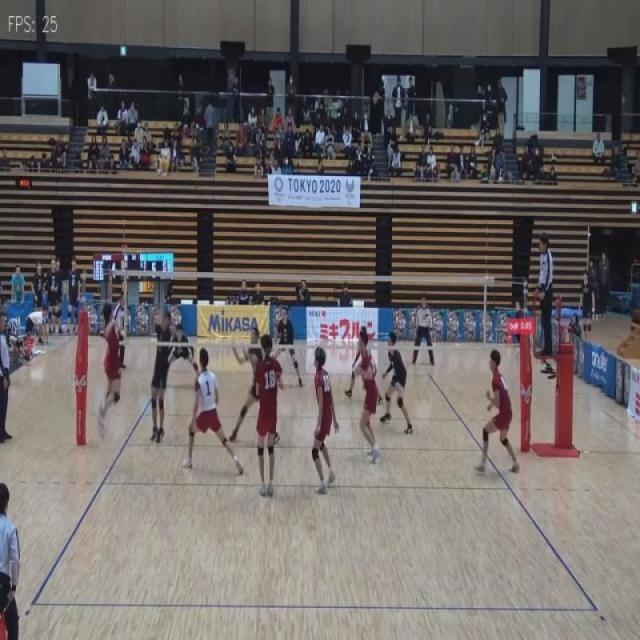volleyball: (160, 158, 168, 173)
